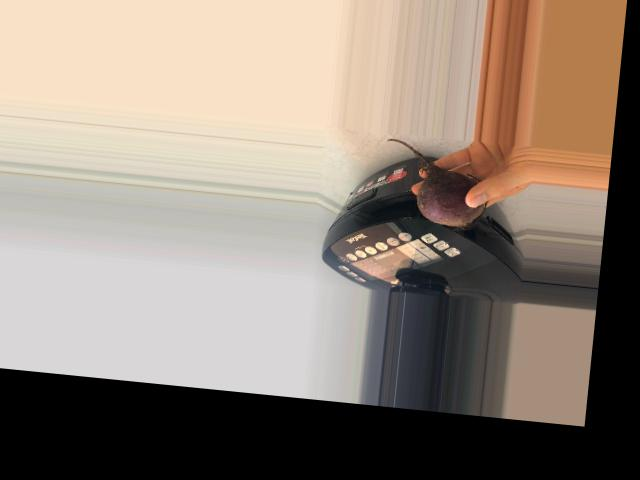beet: (378, 138, 491, 232)
